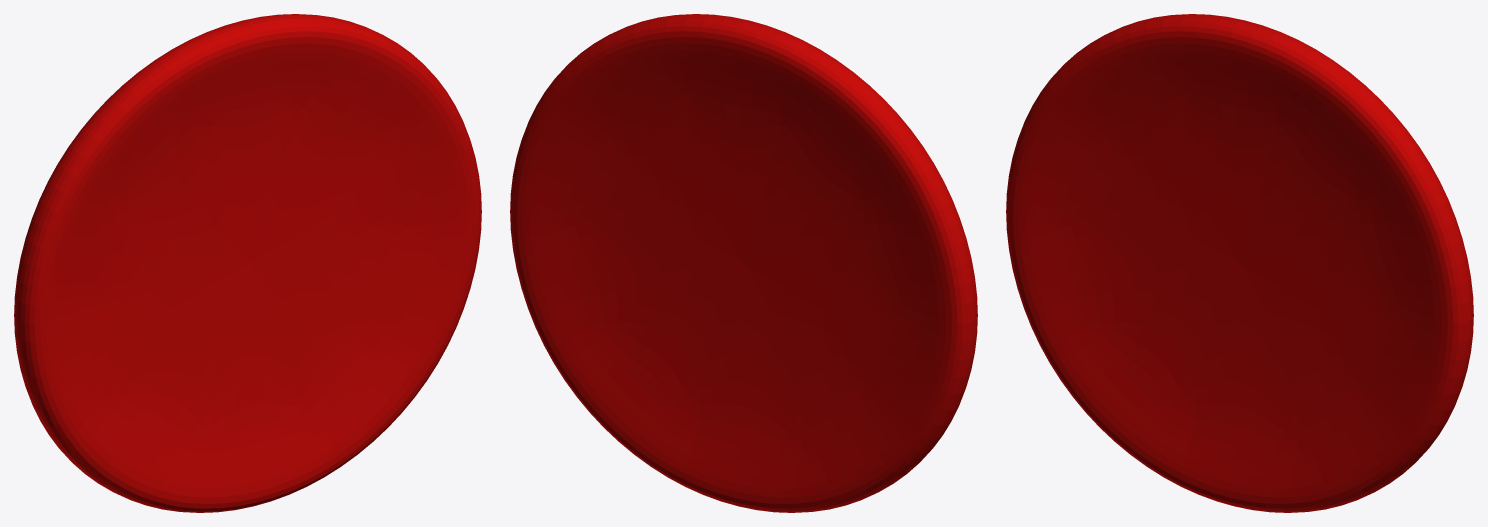
Rendered from chipR.glb.
3 renders of one model, left to right at view 1: azimuth 30°, elevation 25°; view 2: azimuth 150°, elevation 25°; view 3: azimuth 330°, elevation 25°, orthographic.
Visible parts, largest first — view 1: Cylinder; view 2: Cylinder; view 3: Cylinder.
Boxes of the visible parts, box(x1,y1,x2,y2) form: Cylinder: box(14, 14, 481, 512); Cylinder: box(510, 14, 977, 512); Cylinder: box(1006, 14, 1473, 512).
Size of the model in its own units: 1.85 by 1.85 by 0.1328.
